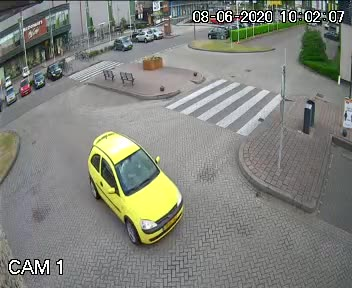car: (68, 127, 191, 247)
